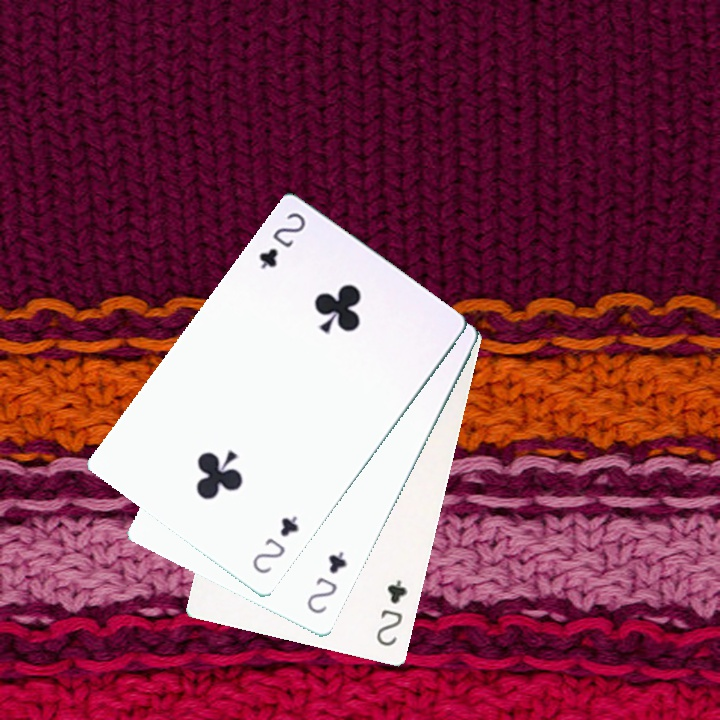2c: (248, 511, 302, 577), (255, 208, 309, 273), (302, 547, 351, 617), (372, 575, 410, 649)
